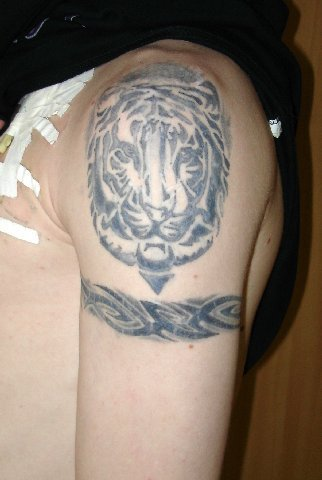tatu5_tigr: (84, 66, 238, 296)
